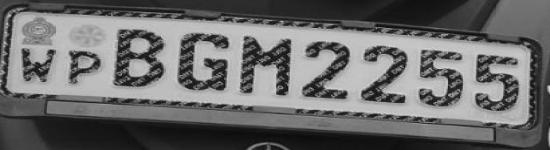2: (297, 36, 358, 104), (360, 43, 415, 109)
5: (470, 50, 525, 116), (417, 47, 470, 111)
B: (107, 26, 169, 93)
G: (170, 28, 233, 95)
M: (235, 34, 297, 100)
P: (63, 47, 106, 86)
W: (18, 46, 56, 84)
